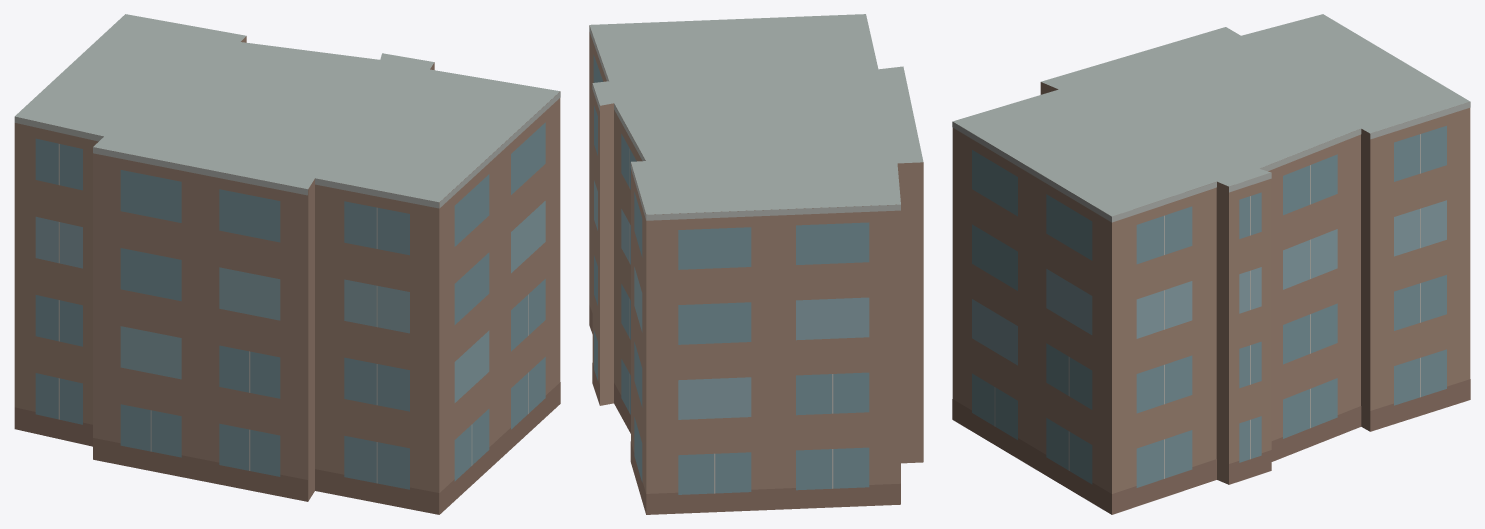
Rendered from survey-upis-32862249.glb.
3 renders of one model, left to right at view 1: azimuth 30°, elevation 25°; view 2: azimuth 150°, elevation 25°; view 3: azimuth 270°, elevation 25°, orthographic. The views are drawn at different scales.
Visible parts, largest first — view 1: survey-upis-32862249.tmp; view 2: survey-upis-32862249.tmp; view 3: survey-upis-32862249.tmp.
Boxes of the visible parts, <box> form: survey-upis-32862249.tmp: <box>14,14,560,514</box>; survey-upis-32862249.tmp: <box>589,14,923,514</box>; survey-upis-32862249.tmp: <box>952,14,1470,514</box>.
Bounding box in the file's own units: 17.79 × 12.2 × 19.21.
